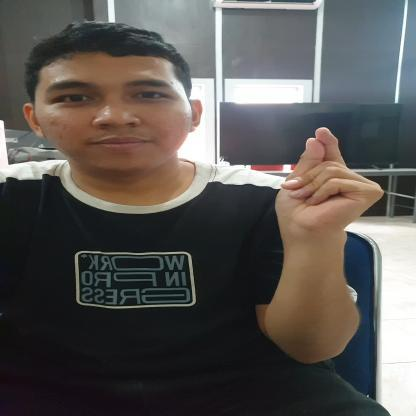R: (261, 126, 385, 240)
